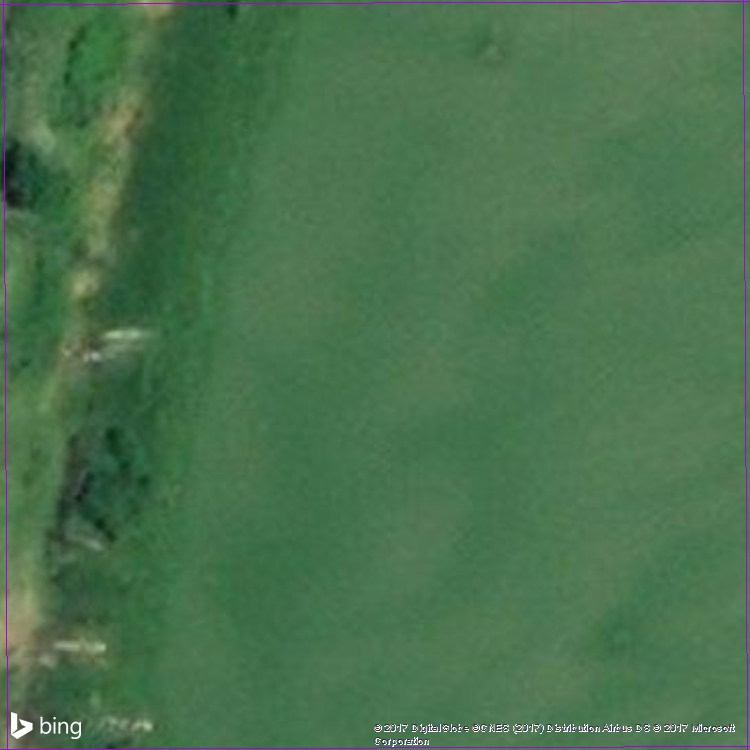boat: (42, 633, 121, 658), (92, 322, 164, 347)
